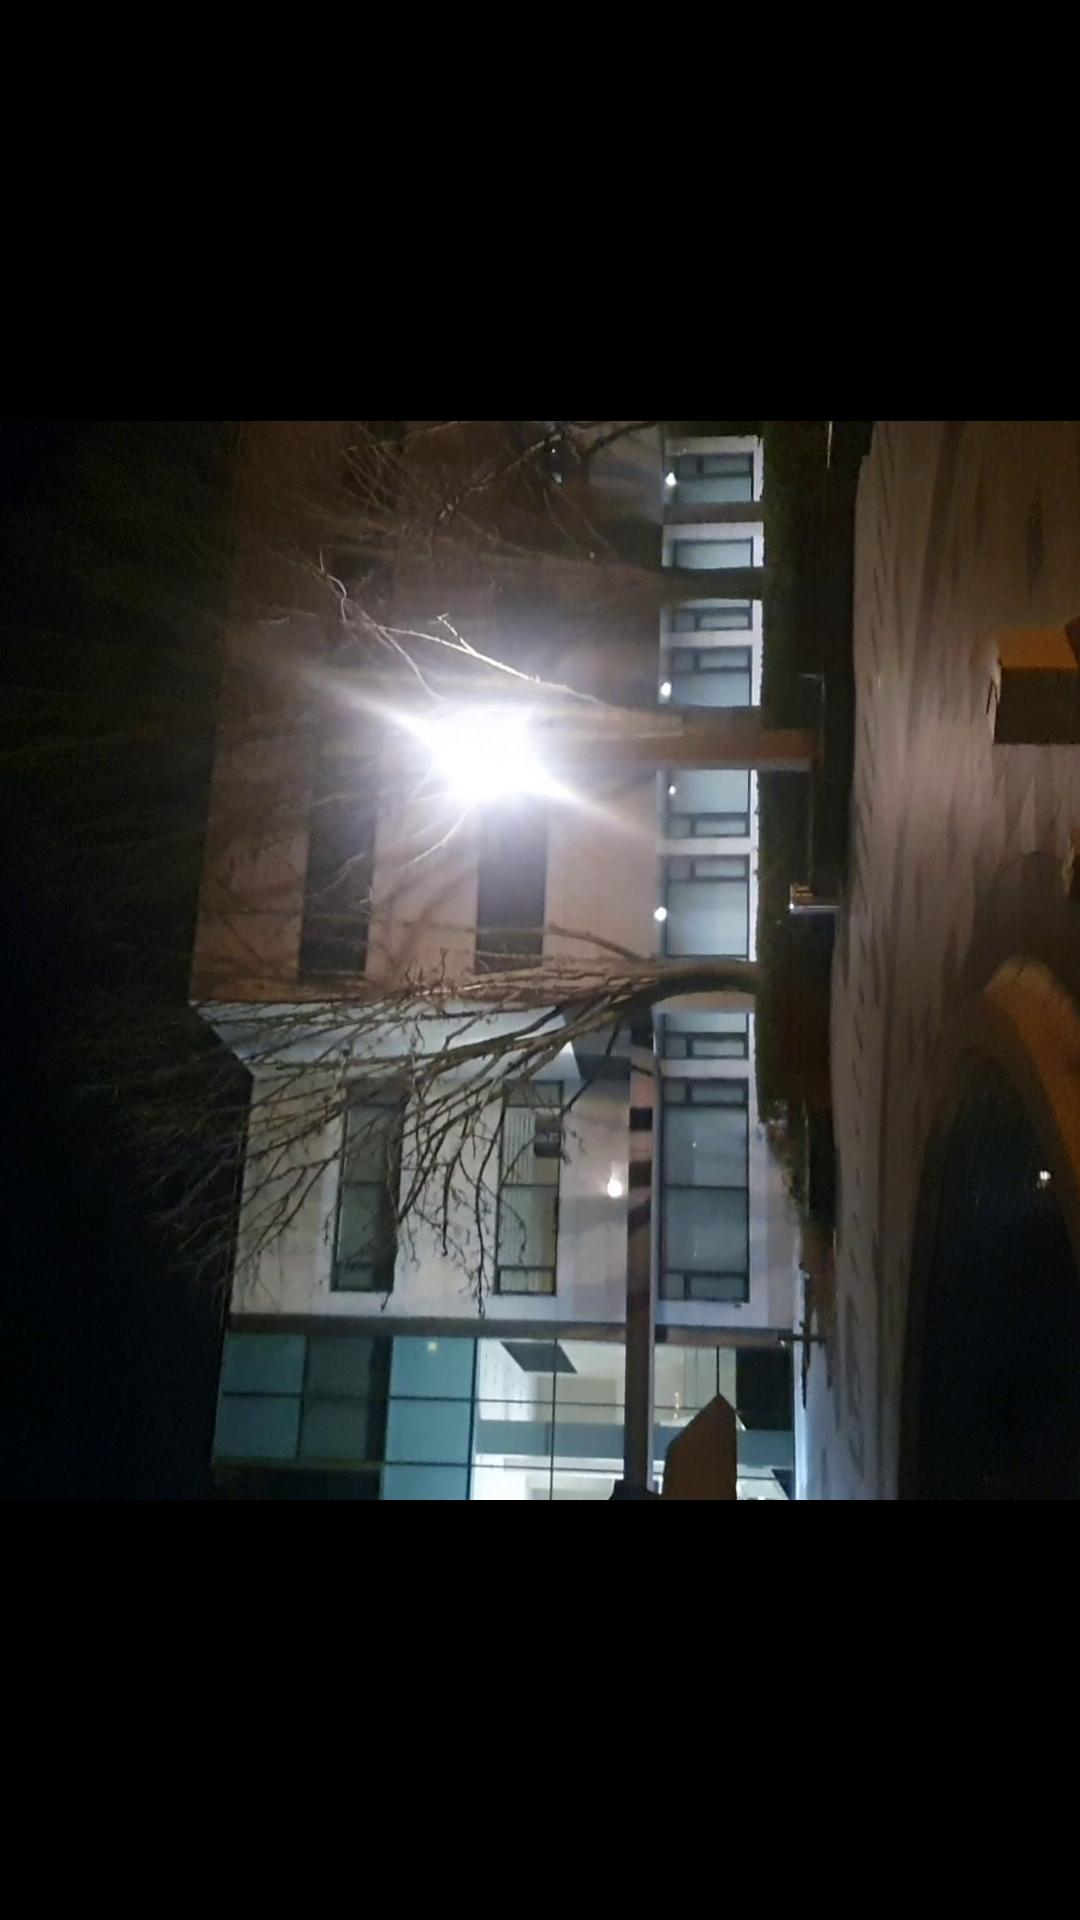Box: (971, 621, 1080, 757), (1050, 825, 1080, 924)
